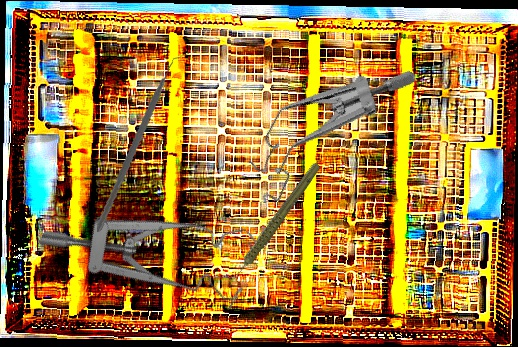Chopper: (74, 52, 212, 233)
Handpiece: (206, 160, 341, 283)
Speculum: (38, 141, 270, 346), (231, 22, 421, 240)
